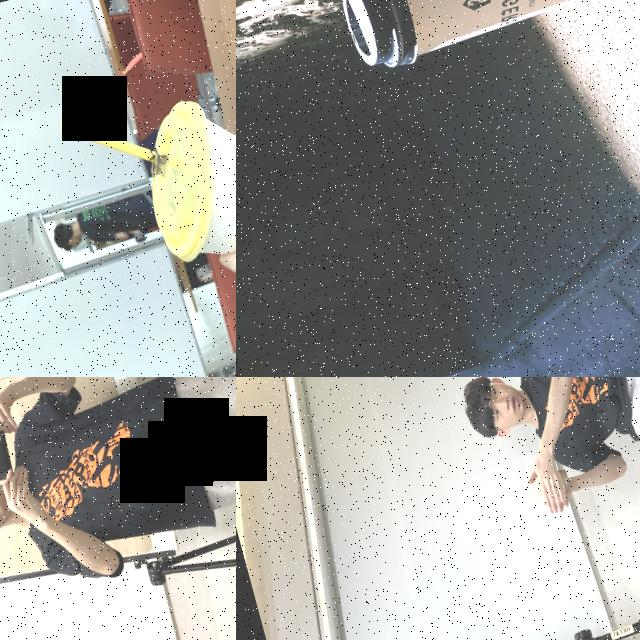cup: (329, 0, 640, 77), (128, 76, 236, 297), (526, 462, 572, 506)
